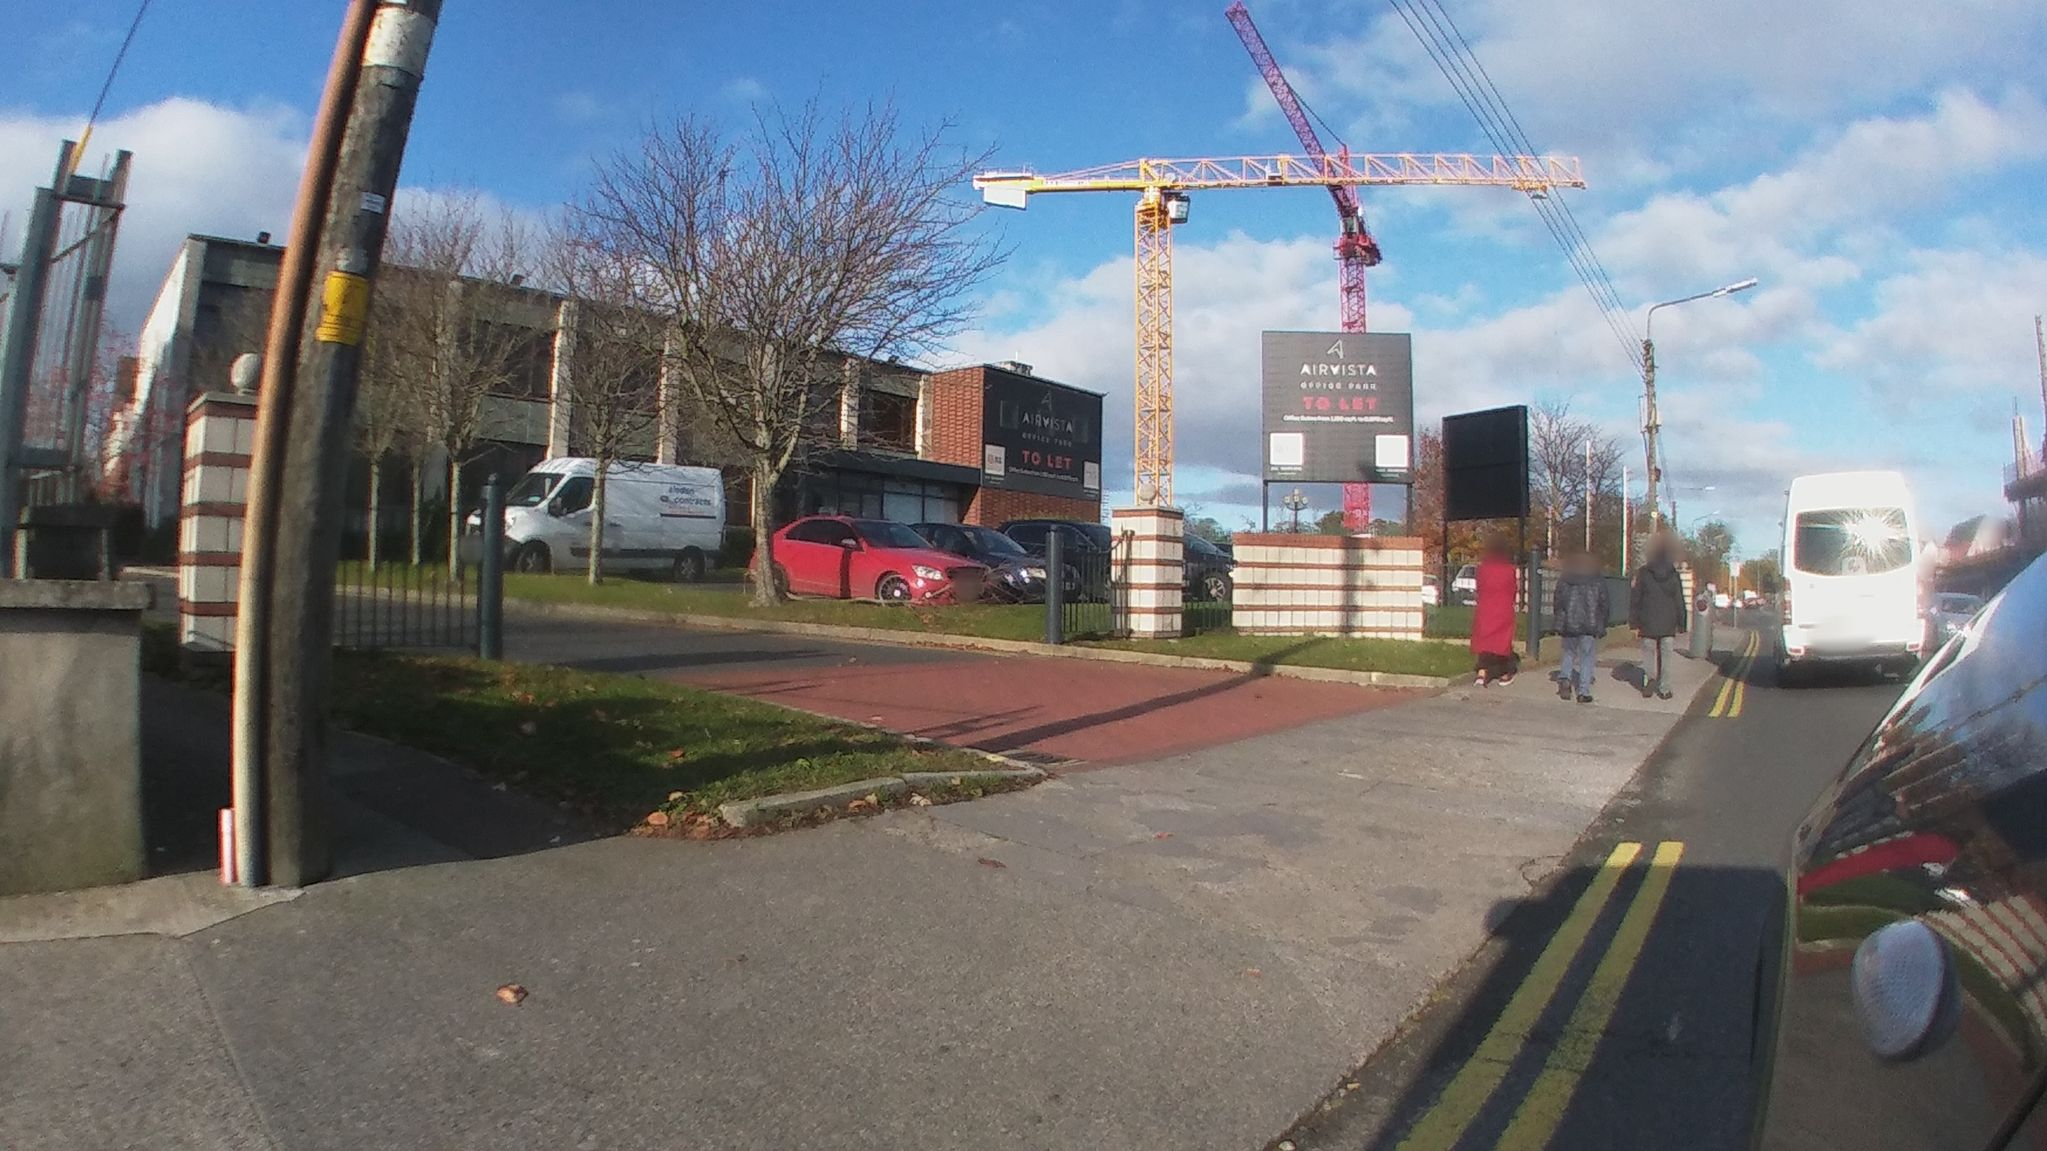property sign: (1232, 302, 1428, 492)
